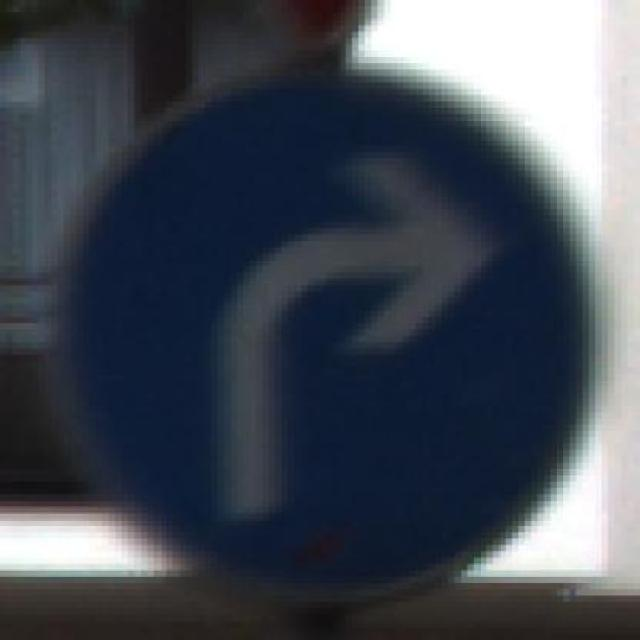Turn right ahead: (31, 70, 627, 608)
